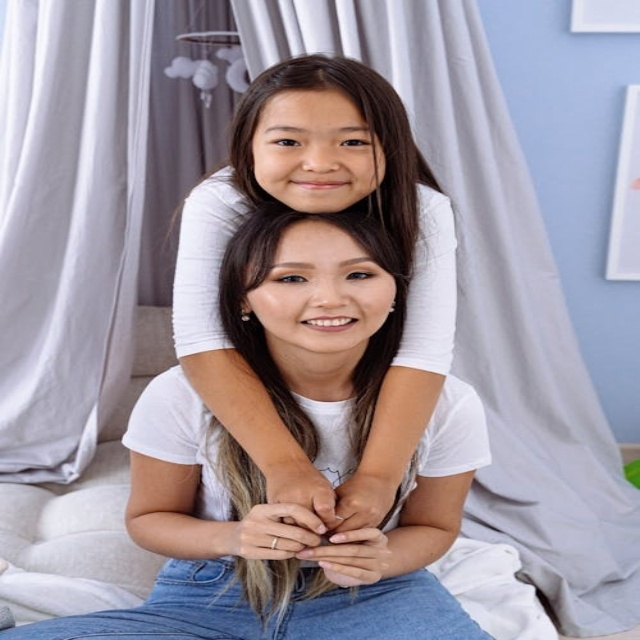Sin_gafas: (274, 256, 375, 294), (259, 119, 370, 151)
Sin_guantes: (237, 497, 324, 569), (296, 526, 397, 587), (256, 463, 339, 519), (329, 471, 401, 530)
Sin_mascara: (291, 311, 362, 349), (276, 173, 356, 206)
